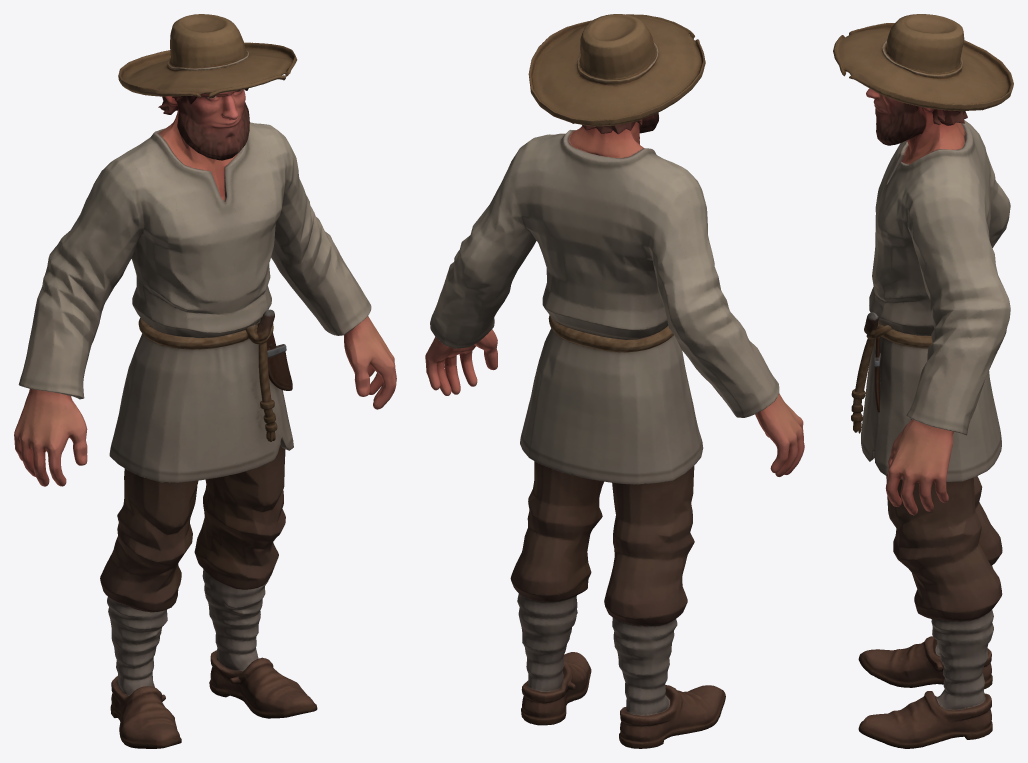
The model's file is farmer.glb.
The picture shows the model from 3 angles, left to right: view 1: azimuth 30°, elevation 25°; view 2: azimuth 150°, elevation 25°; view 3: azimuth 270°, elevation 25°; orthographic projection.
Parts seen in each view (by area): view 1: world; view 2: world; view 3: world.
Part boxes in pixels (x1,y1,x2,y2): world: [14, 14, 396, 748]; world: [425, 14, 804, 748]; world: [833, 14, 1013, 748].
Bounding box in the file's own units: 0.5504 × 0.9964 × 0.2382.
Materials: 1 (1 with a texture image).
